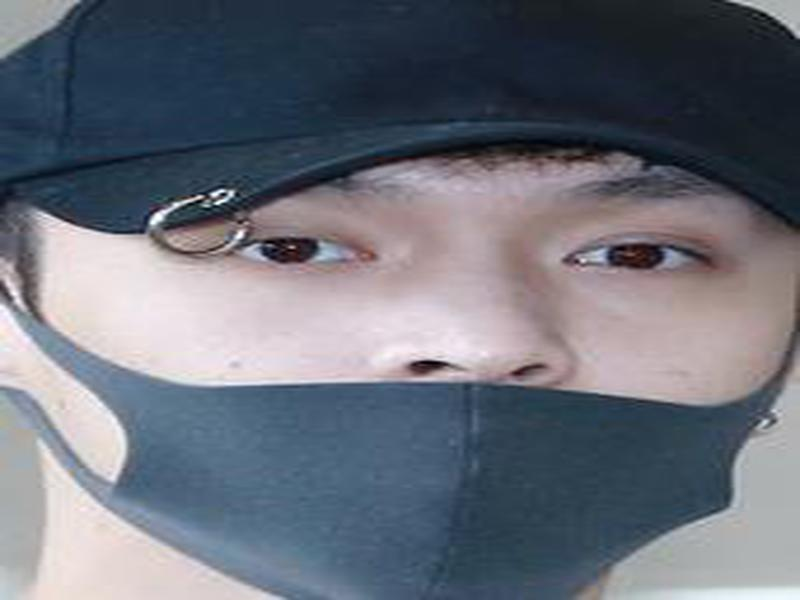with_mask: (2, 150, 800, 596)
